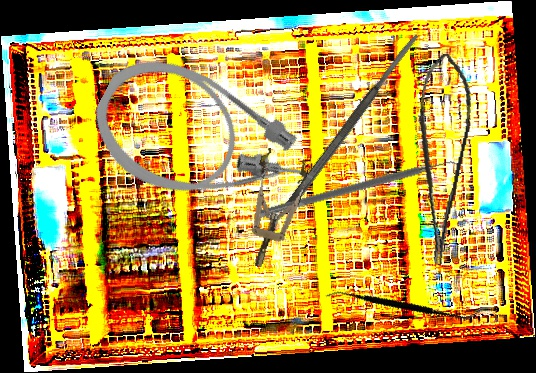Cannula: (76, 38, 332, 250)
Micro Scissor: (393, 50, 482, 267)
Spatula Surgical: (282, 32, 422, 212), (324, 242, 480, 366), (256, 152, 466, 227)
Speculum: (233, 146, 312, 273)
